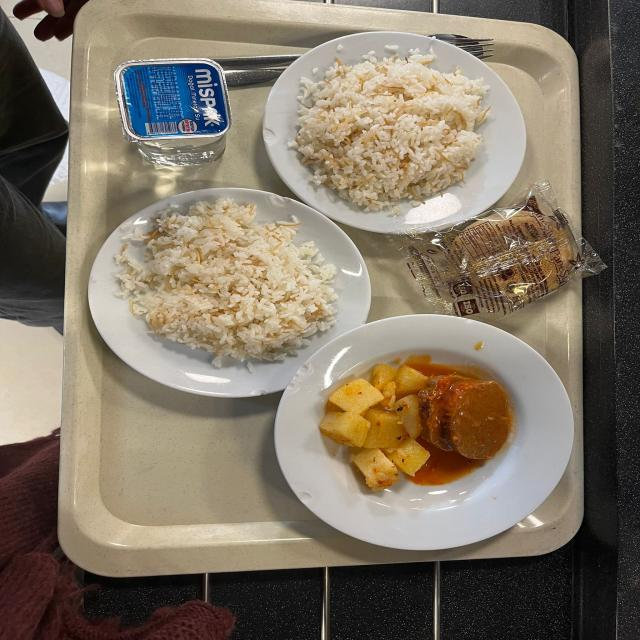ana_yemek: (281, 318, 572, 550), (84, 189, 350, 380), (262, 30, 510, 230)
